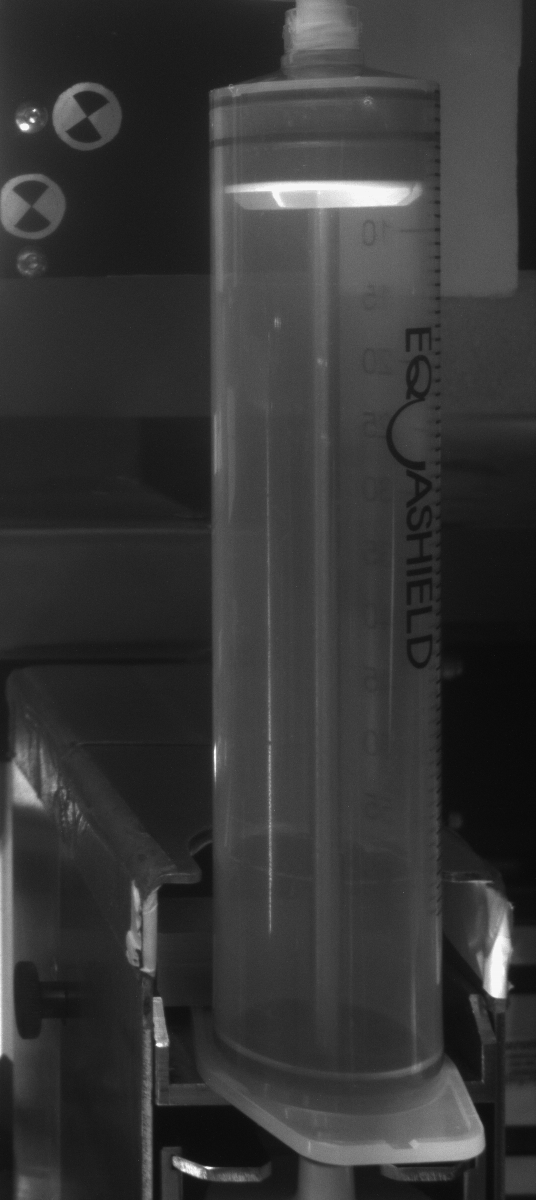piston: (207, 109, 445, 213)
